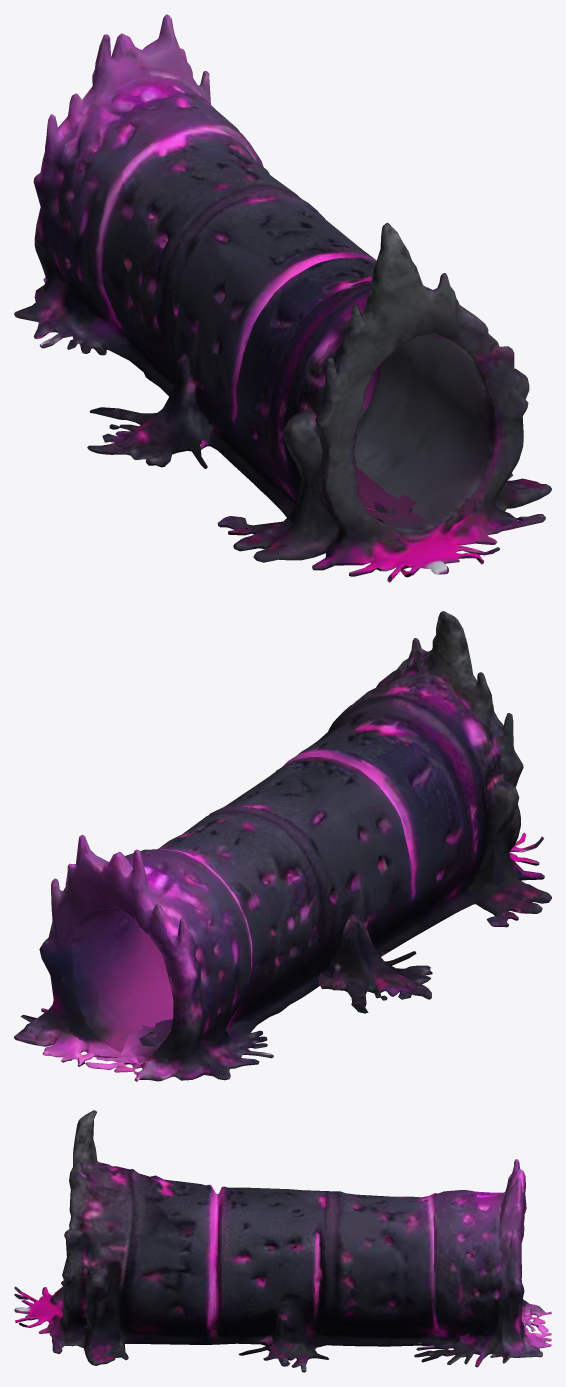
File: tunnel-root-2-generated-2026-05-17T19-22-25-401Z.low.glb
3 renders of one model, top to bottom at view 1: azimuth 30°, elevation 25°; view 2: azimuth 150°, elevation 25°; view 3: azimuth 270°, elevation 25°, orthographic. The views are drawn at different scales.
Parts seen in each view (by area): view 1: temp_mesh.ply; view 2: temp_mesh.ply; view 3: temp_mesh.ply.
Part boxes in pixels (x1,y1,x2,y2): temp_mesh.ply: [14, 14, 551, 582]; temp_mesh.ply: [14, 611, 551, 1081]; temp_mesh.ply: [14, 1110, 551, 1372].
Size of the model in its own units: 0.9304 by 0.8313 by 1.97.
1 material, 1 textured.
